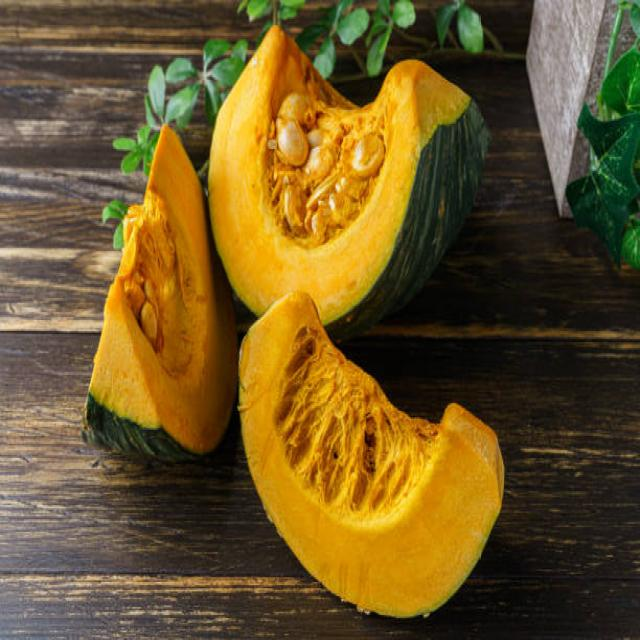Pumpkin: (241, 297, 515, 624), (214, 29, 490, 312), (82, 126, 222, 471)
